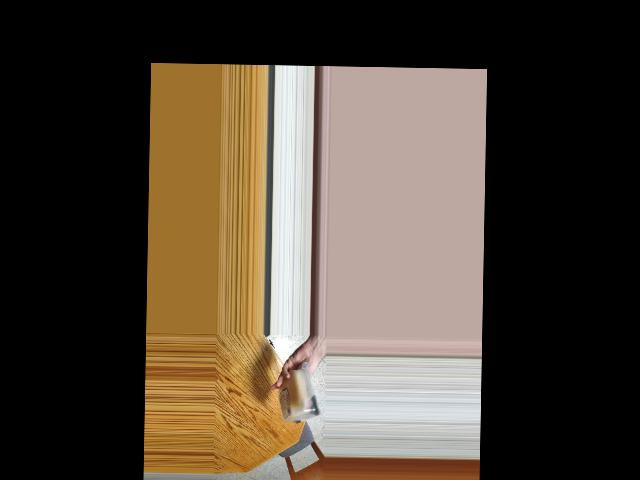cheese: (275, 367, 319, 425)
